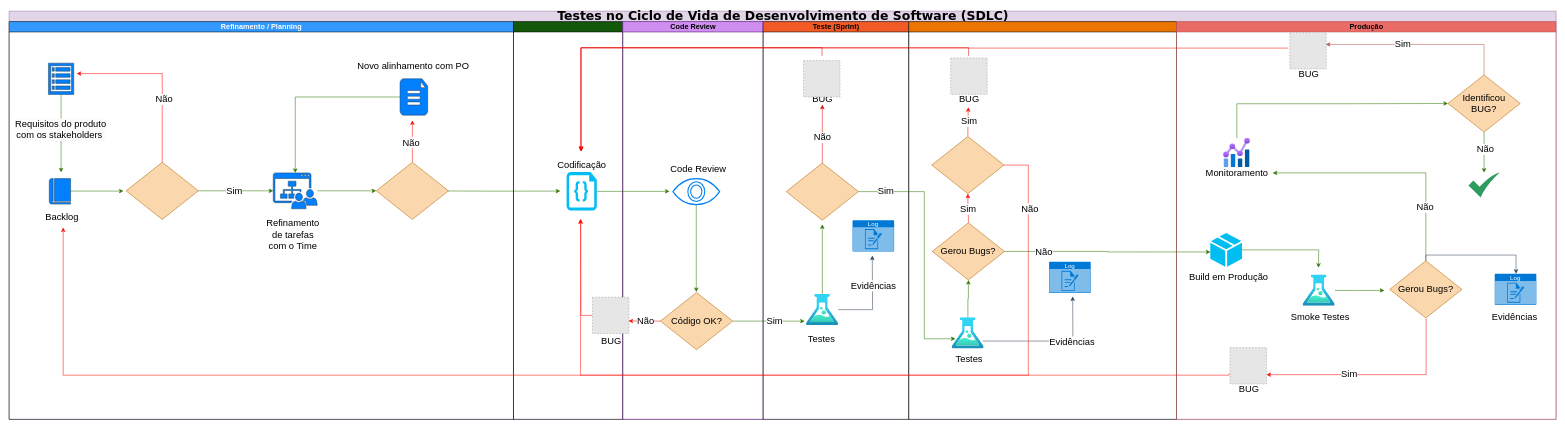
This 1565x441 diagram has some shape labels left out. Grey dashed boxes stand in for pictures. The shapes that lost their labels are listed below. From the top down, each one's box as (x1, y1, x2, y2) in pixels, then its label:
(931, 136, 1004, 194): Bug Crítico?
(126, 162, 198, 219): Requisito Aceito?
(376, 162, 448, 219): Requisitos Detalhados?
(786, 162, 858, 220): Testes OK?
(513, 21, 623, 419): Desenvolvimento
(908, 21, 1176, 419): Homologação (Release)
